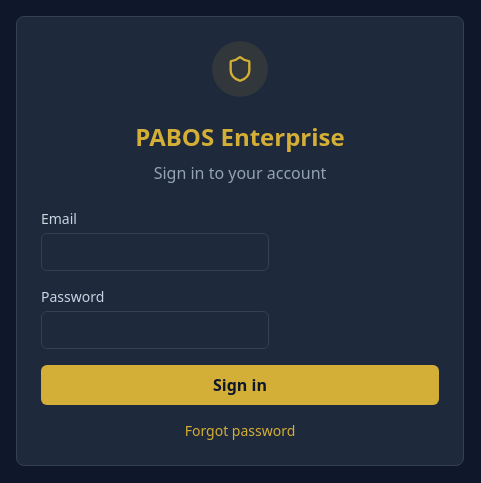
Test: Login › shows the MFA step when the backend requires a TOTP challenge
Type "admin@praeto.local" into the field labelled "Email" at [155, 252], box [41, 233, 269, 271]
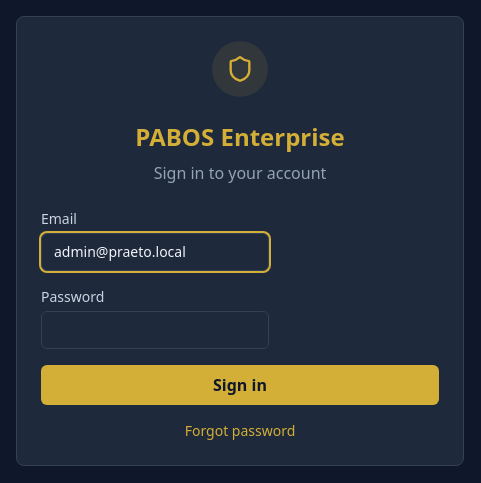
Type "password12" into the password field labelled "Password" at [155, 330], box [41, 311, 269, 349]
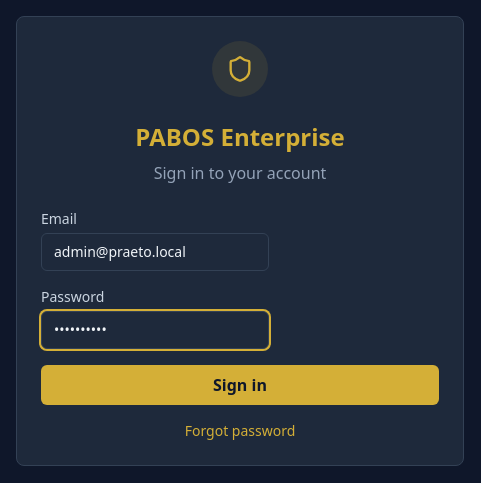
Click the button "Sign in" at [240, 385], box [41, 365, 439, 405]
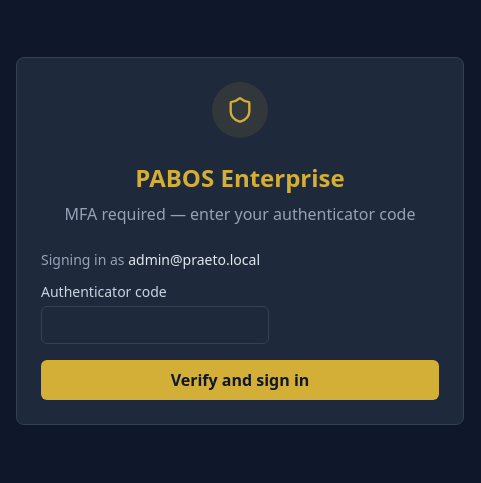
Now the text "MFA required — enter your authenticator code" is shown, box [41, 202, 439, 226]
Now the field labelled "Authenticator code" is shown, box [41, 306, 269, 344]
